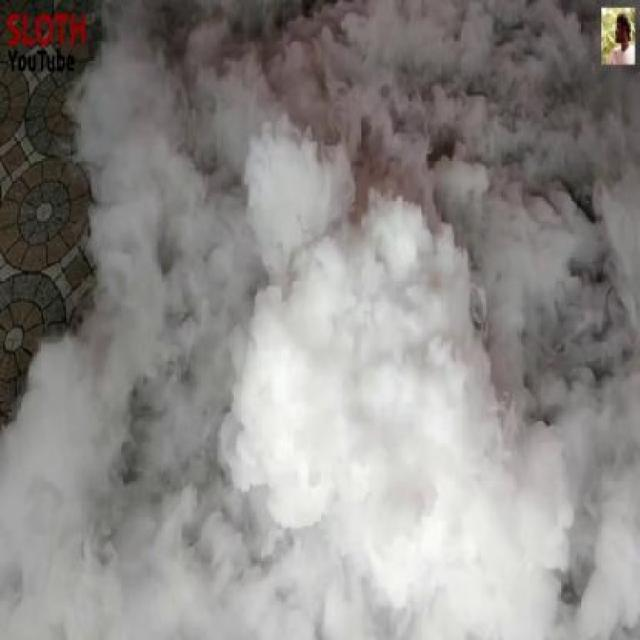smoke: (181, 78, 601, 582)
